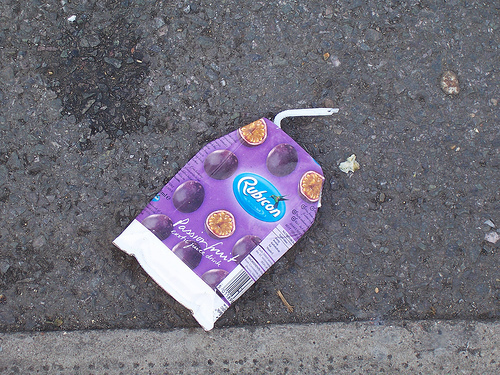litter: (112, 104, 343, 331)
